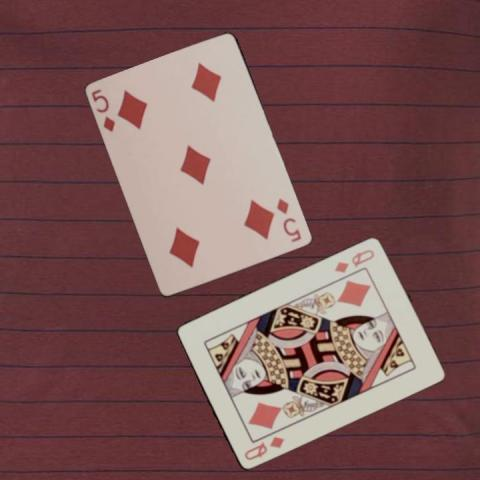5d: (274, 195, 303, 244), (88, 86, 116, 134)
Qd: (331, 247, 376, 275), (241, 434, 285, 462)
